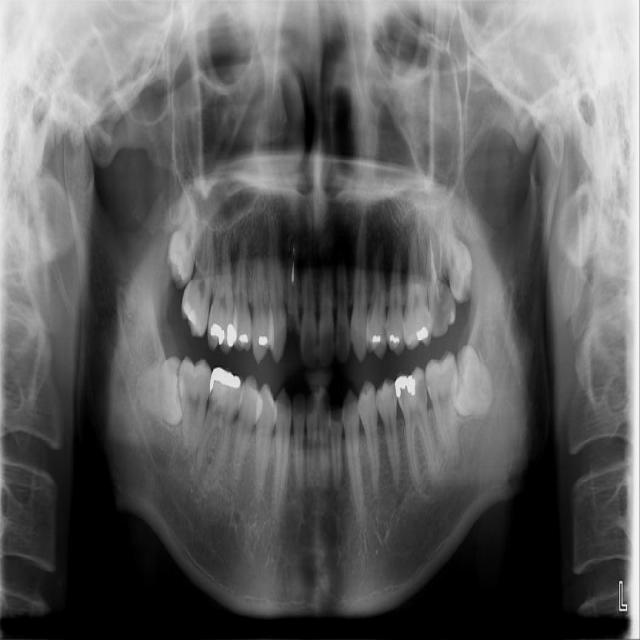Caries: (416, 379, 427, 404)
Filling: (211, 368, 240, 393), (393, 375, 418, 401), (208, 321, 226, 347), (182, 300, 199, 325), (224, 323, 238, 348), (413, 326, 432, 342), (234, 333, 250, 350), (368, 333, 382, 348), (254, 335, 269, 348), (389, 332, 401, 347)
Root Canal Treatment: (429, 225, 434, 281), (438, 230, 440, 258)
impacted tooth: (167, 184, 201, 285), (131, 357, 181, 422), (454, 345, 496, 415)
